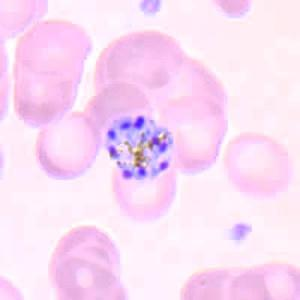Infected: (103, 112, 174, 183)
Uninfected: (149, 53, 227, 121), (162, 95, 225, 177), (12, 49, 78, 126), (98, 29, 175, 93), (83, 80, 151, 152), (35, 106, 99, 179), (224, 133, 291, 202), (46, 227, 118, 289), (107, 156, 180, 217), (17, 19, 89, 71), (53, 258, 123, 300)
